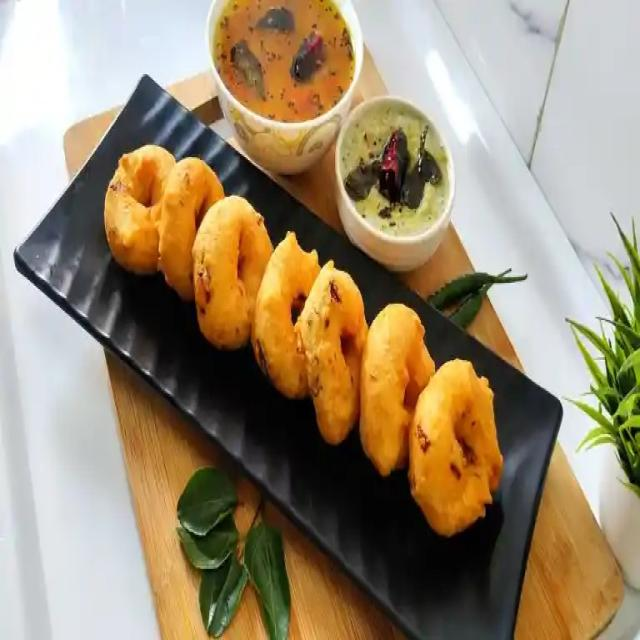medu vadai: (408, 359, 503, 537), (359, 304, 433, 475), (192, 196, 272, 352), (300, 263, 368, 443), (255, 234, 322, 398), (158, 156, 225, 299), (105, 144, 175, 272)
